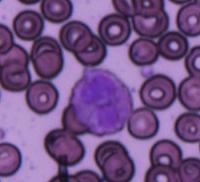E: (70, 67, 133, 136)
